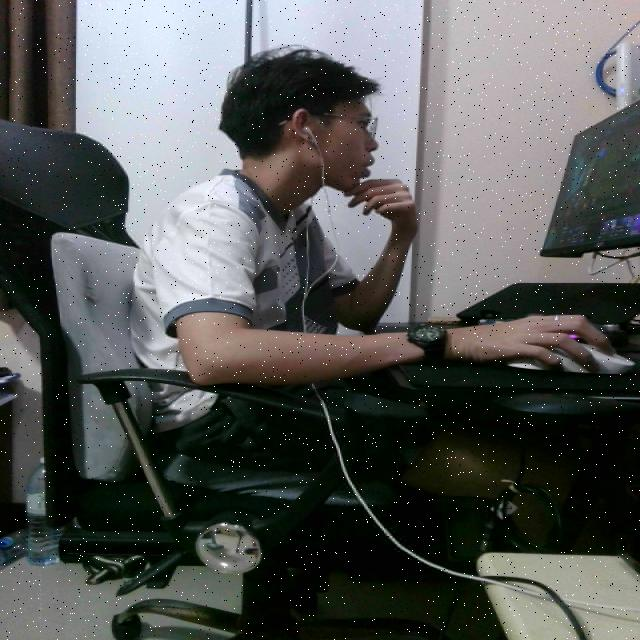Bad: (120, 35, 464, 531)
